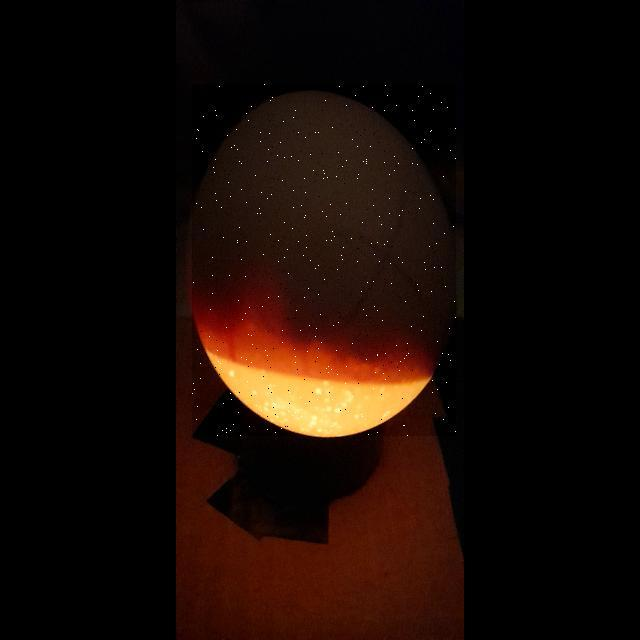Fertile: (192, 84, 456, 436)
